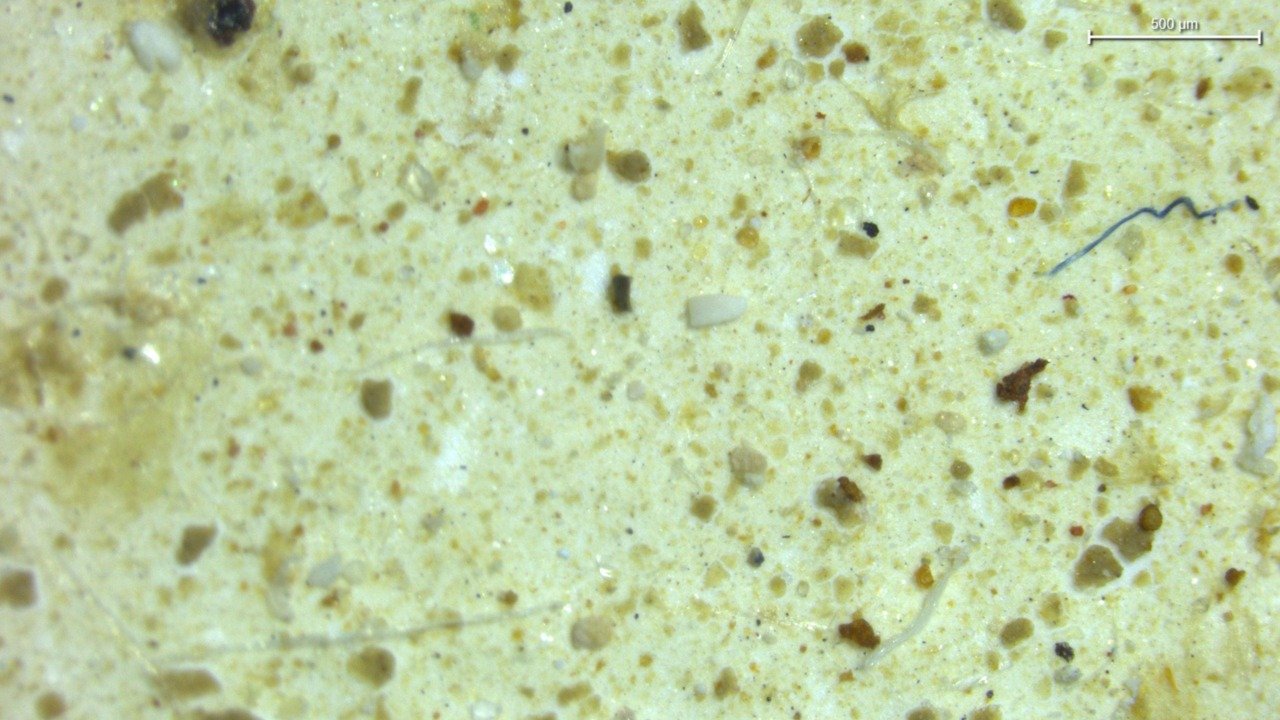microplastic_fragment: (129, 21, 180, 71), (562, 123, 608, 173), (685, 293, 747, 329)
